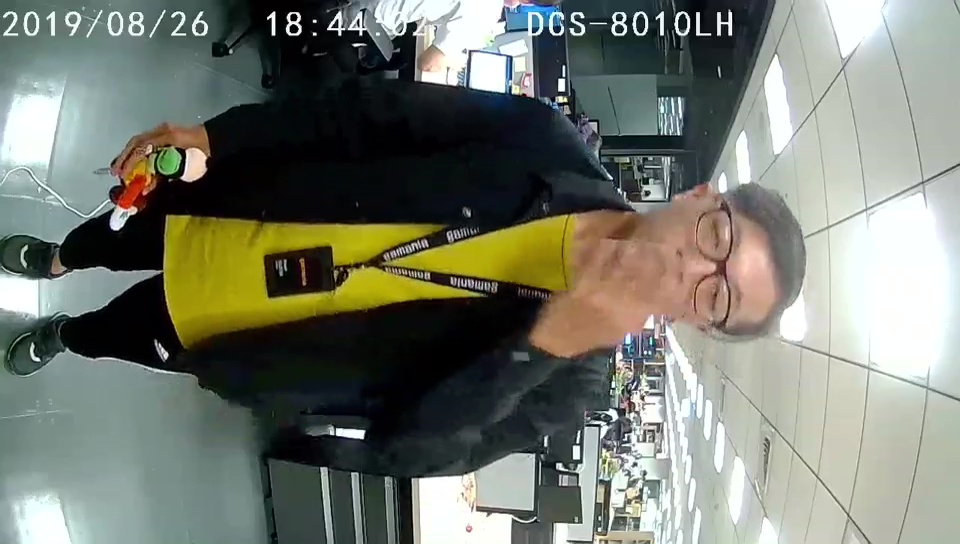goofy: (112, 144, 208, 232)
